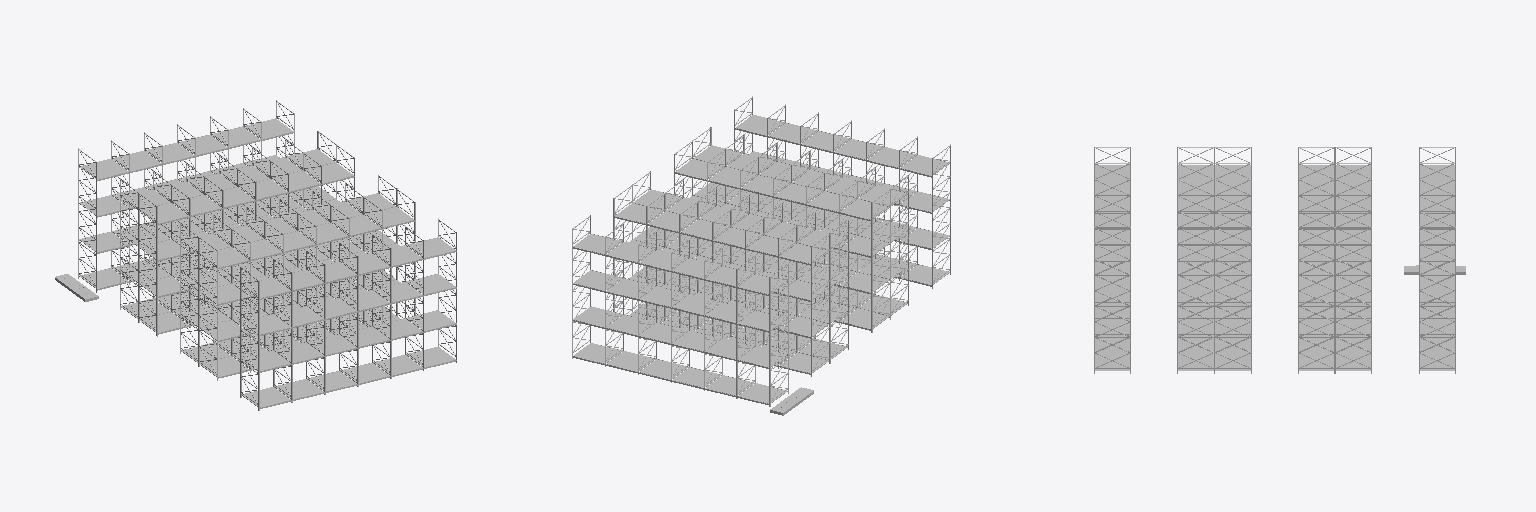
3 views of the same model, side by side, from view 1: azimuth 30°, elevation 25°; view 2: azimuth 150°, elevation 25°; view 3: azimuth 270°, elevation 25° (orthographic).
Visible parts, largest first — view 1: BoxRack6, Shelf7, Shelf23, Shelf24, Shelf25, Shelf15, Shelf26, BoxRack5, Shelf27, Shelf11, Shelf19, BoxRack3 (+18 smaller); view 2: BoxRack1, BoxRack2, Shelf1, Shelf5, Shelf27, Shelf6, Shelf19, Shelf7, Shelf11, Shelf23, Shelf15, Shelf22 (+18 smaller); view 3: Shelf19, Shelf23, Shelf27, Shelf15, Shelf11, Shelf7, BoxRack5, BoxRack2, BoxRack1, BoxRack3, BoxRack6, BoxRack4 (+18 smaller).
Boxes of the visible parts, x1,y1,x2,y2 form: BoxRack6: [240, 219, 456, 410]; Shelf7: [79, 118, 293, 180]; Shelf23: [201, 207, 414, 268]; Shelf24: [242, 347, 456, 408]; Shelf25: [242, 310, 456, 372]; Shelf15: [141, 163, 354, 224]; Shelf26: [242, 274, 456, 335]; BoxRack5: [199, 188, 415, 380]; Shelf27: [243, 237, 456, 299]; Shelf11: [122, 149, 335, 209]; Shelf19: [181, 193, 395, 253]; BoxRack3: [138, 144, 354, 336]; BoxRack1: [572, 215, 788, 406]; BoxRack2: [613, 185, 830, 376]; Shelf1: [573, 343, 787, 404]; Shelf5: [573, 306, 787, 368]; Shelf27: [735, 115, 949, 177]; Shelf6: [573, 270, 787, 332]; Shelf19: [675, 159, 889, 220]; Shelf7: [573, 234, 787, 295]; Shelf11: [614, 203, 827, 265]; Shelf23: [693, 145, 907, 205]; Shelf15: [633, 189, 847, 249]; Shelf22: [694, 182, 907, 242]; Shelf19: [1215, 165, 1250, 261]; Shelf23: [1178, 165, 1213, 261]; Shelf27: [1095, 165, 1129, 261]; Shelf15: [1299, 165, 1333, 261]; Shelf11: [1336, 165, 1370, 261]; Shelf7: [1420, 165, 1454, 261]; BoxRack5: [1177, 147, 1214, 373]; BoxRack2: [1335, 147, 1371, 373]; BoxRack1: [1419, 147, 1455, 373]; BoxRack3: [1298, 147, 1334, 373]; BoxRack6: [1094, 147, 1130, 373]; BoxRack4: [1215, 147, 1251, 373].
Size of the model in its own units: 8.1 by 4.66 by 12.03.